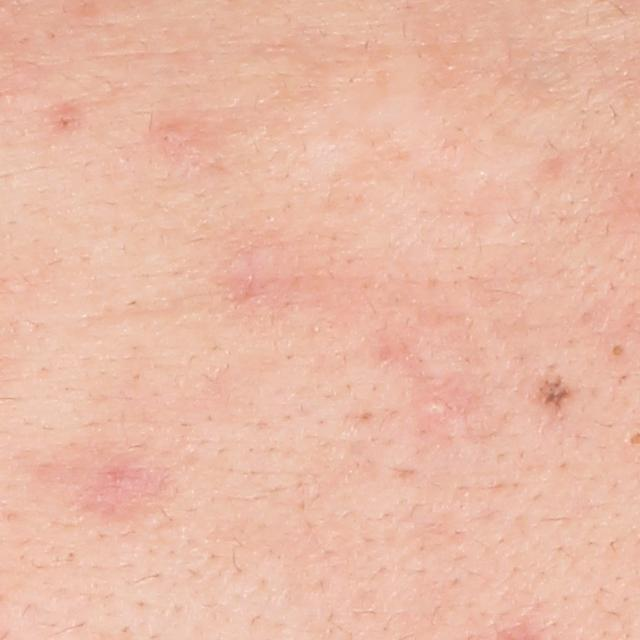comedo: (606, 343, 629, 360)
